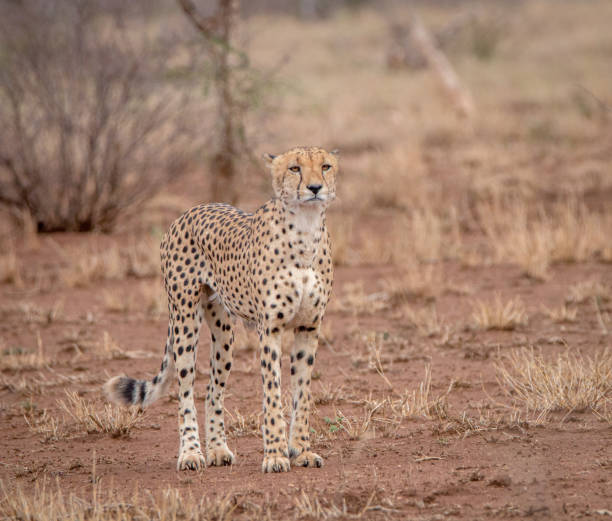cheetah: (252, 140, 350, 215)
